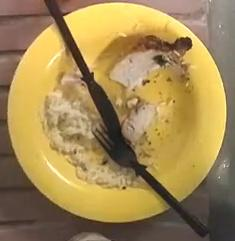pork: (109, 36, 176, 146)
rice: (44, 85, 136, 189)
